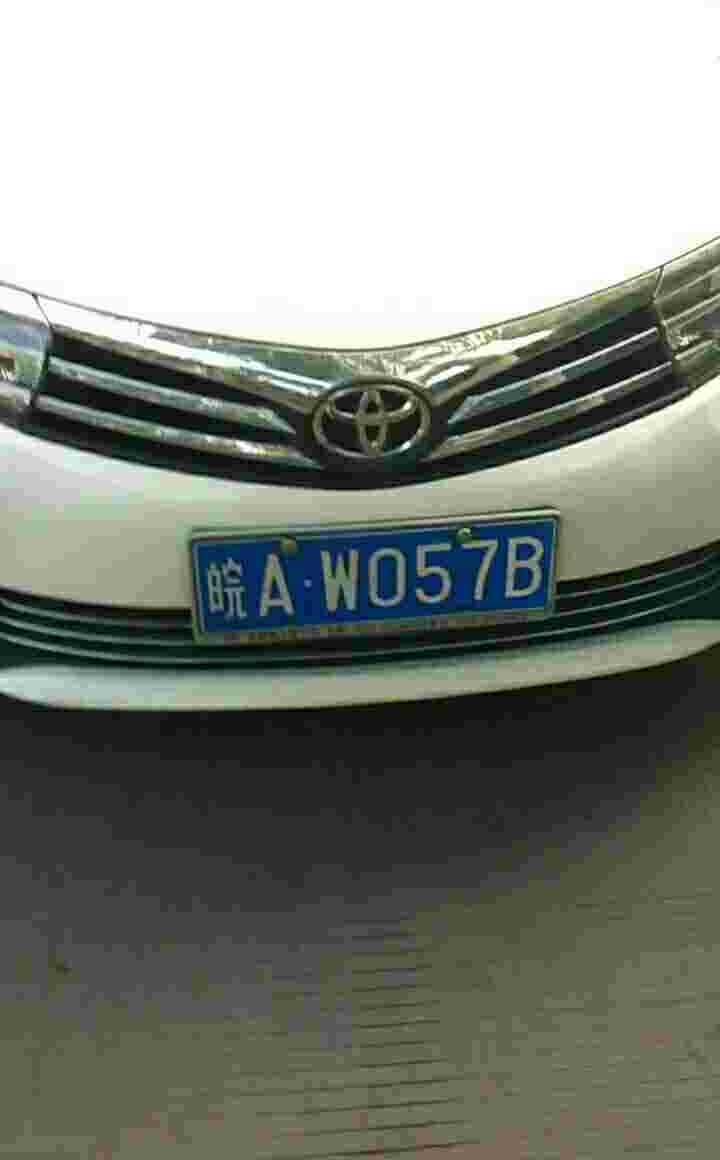license_plate: (201, 522, 560, 632)
